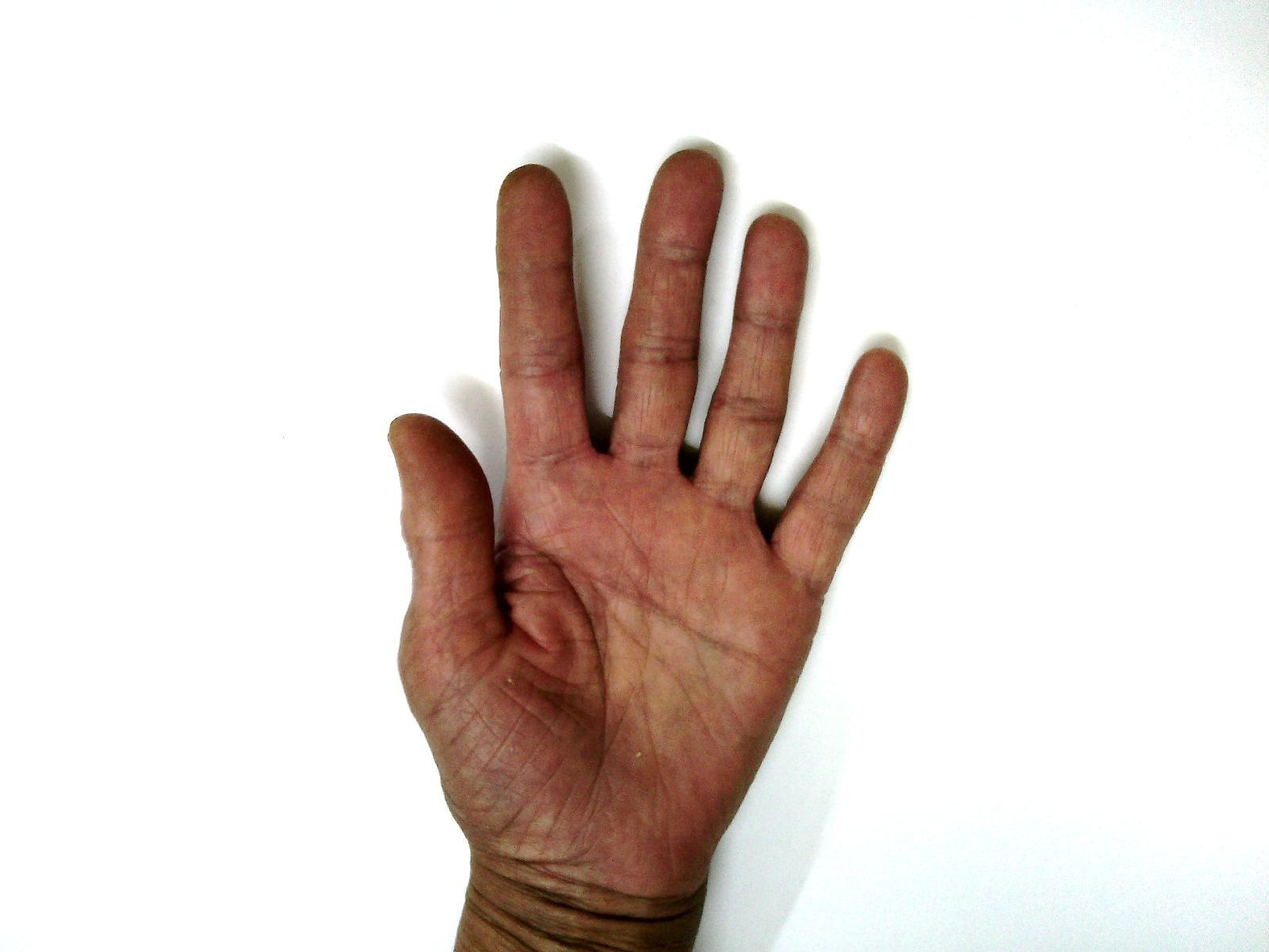open_palm: (385, 148, 911, 904)
